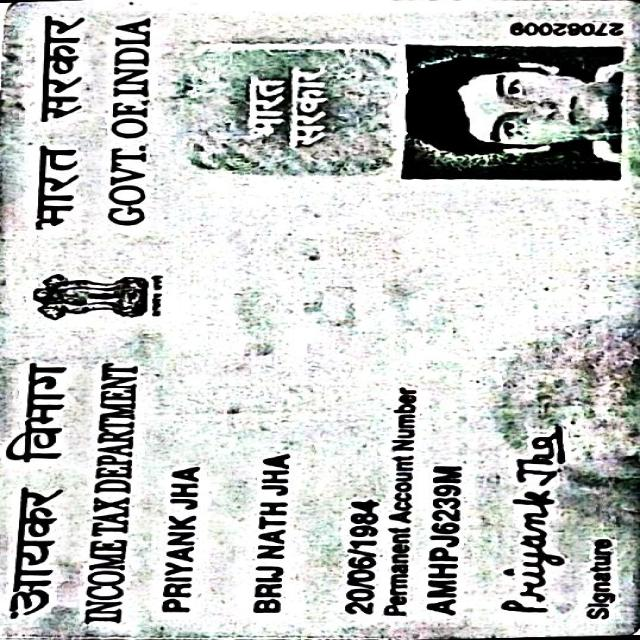pan_card: (0, 2, 635, 634)
